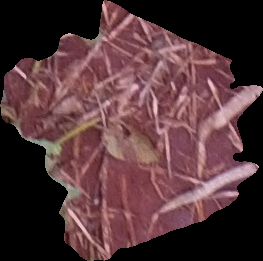soil: (3, 3, 262, 260)
